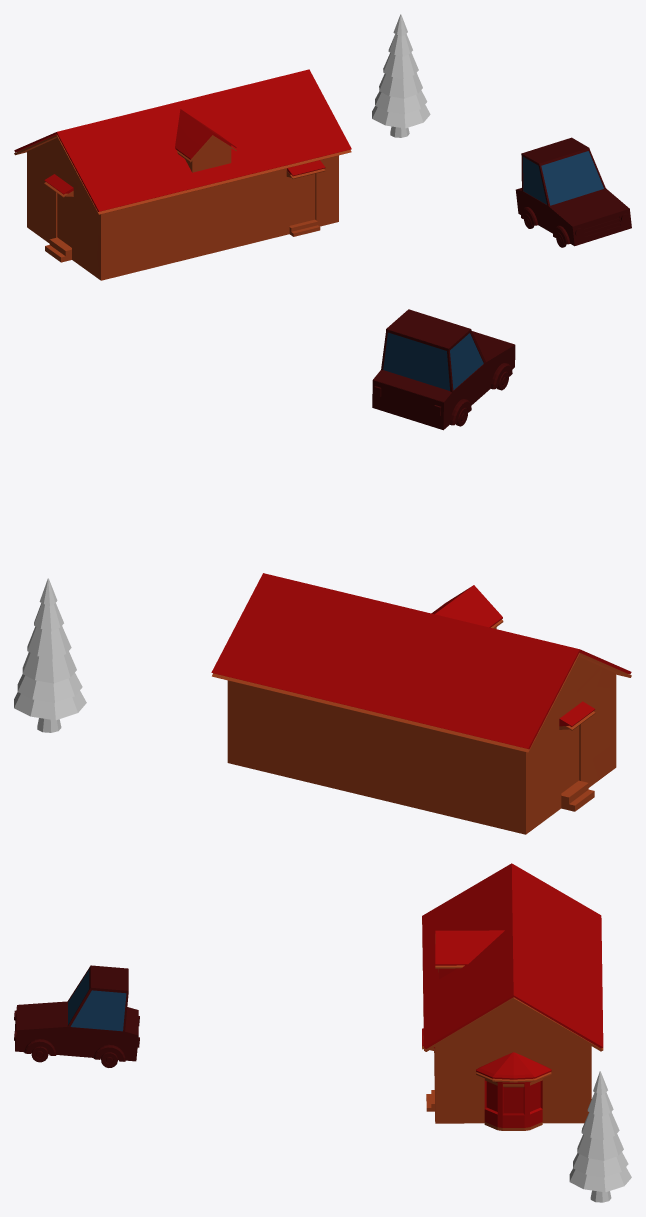
Rendered from casita.obj.
3 renders of one model, top to bottom at view 1: azimuth 30°, elevation 25°; view 2: azimuth 150°, elevation 25°; view 3: azimuth 270°, elevation 25°, orthographic. The views are drawn at different scales.
Visible parts, largest first — view 1: Cube_Cube.000, Cube_Cube.002, Cabin_default, Cylinder.002, glass_default_glass_default.001; view 2: Cube_Cube.002, Cube_Cube.000, Cabin_default, Cylinder.002, glass_default_glass_default.001; view 3: Cube_Cube.002, Cube_Cube.000, Cabin_default, Cylinder.002, glass_default_glass_default.001.
Boxes of the visible parts, left/top/right/bottom form: Cube_Cube.000: left=14, top=134, right=351, bottom=280; Cube_Cube.002: left=14, top=69, right=351, bottom=211; Cabin_default: left=515, top=137, right=631, bottom=246; Cylinder.002: left=372, top=14, right=430, bottom=137; glass_default_glass_default.001: left=523, top=151, right=603, bottom=205; Cube_Cube.002: left=211, top=573, right=631, bottom=749; Cube_Cube.000: left=212, top=619, right=631, bottom=834; Cabin_default: left=372, top=309, right=515, bottom=430; Cylinder.002: left=14, top=578, right=86, bottom=732; glass_default_glass_default.001: left=383, top=332, right=483, bottom=390; Cube_Cube.002: left=422, top=863, right=603, bottom=1127; Cube_Cube.000: left=422, top=921, right=603, bottom=1130; Cabin_default: left=15, top=965, right=138, bottom=1061; Cylinder.002: left=569, top=1071, right=631, bottom=1202; glass_default_glass_default.001: left=68, top=969, right=126, bottom=1031.
Size of what is drawn, in the model's own units: 10.44 by 4.17 by 12.64.
